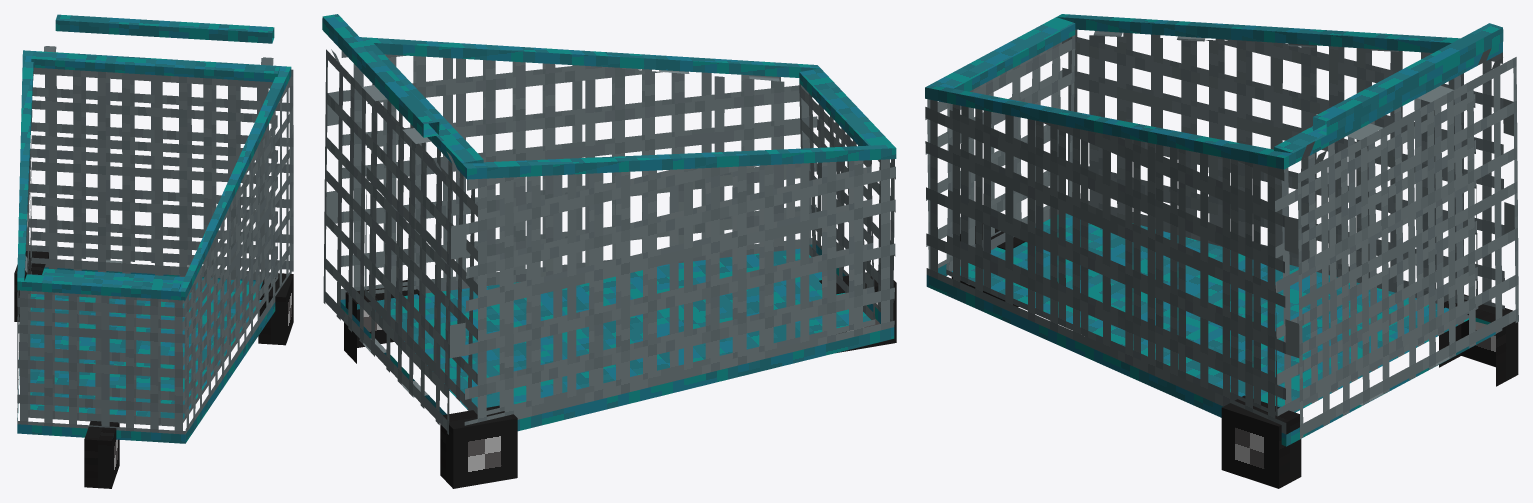
Rendered from BGN_SHOPPING CART (1).fbx.
The picture shows the model from 3 angles, left to right: view 1: azimuth 30°, elevation 25°; view 2: azimuth 150°, elevation 25°; view 3: azimuth 270°, elevation 25°; orthographic projection. The views are drawn at different scales.
Visible parts, largest first — view 1: BGN_SHOPPING_CART__1_; view 2: BGN_SHOPPING_CART__1_; view 3: BGN_SHOPPING_CART__1_.
Boxes of the visible parts, x1,y1,x2,y2 form: BGN_SHOPPING_CART__1_: (14, 14, 293, 488); BGN_SHOPPING_CART__1_: (322, 14, 896, 488); BGN_SHOPPING_CART__1_: (925, 14, 1518, 488).
Bounding box in the file's own units: 132 × 96.79 × 142.
